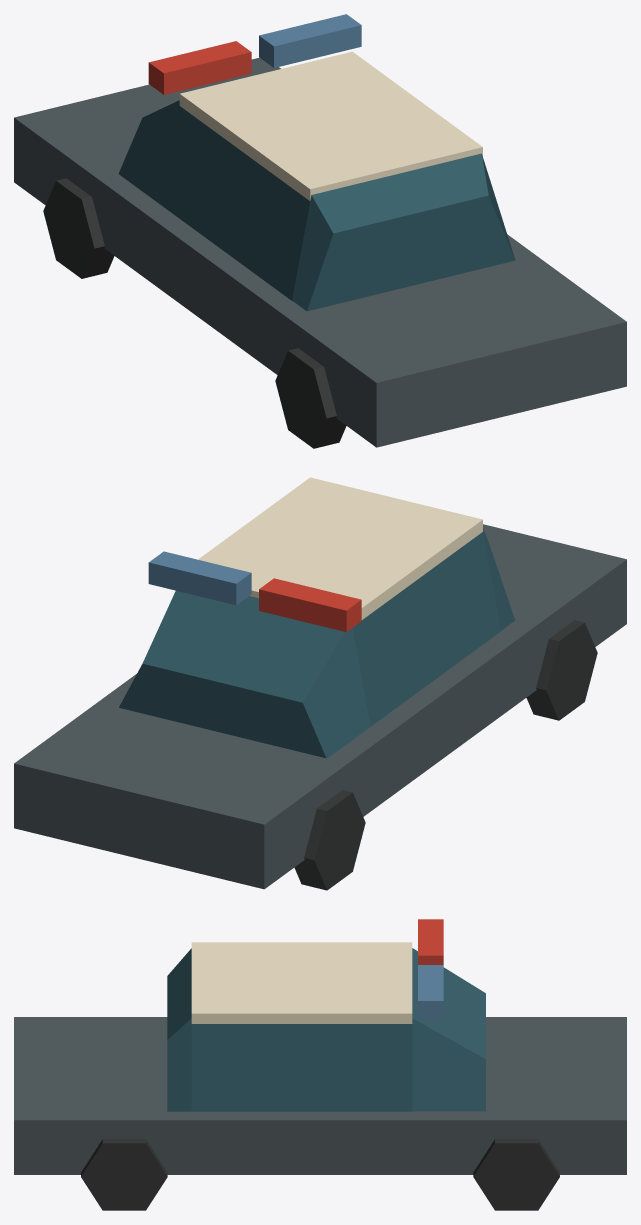
Rendered from police_far.glb.
3 views of the same model, one above another, from view 1: azimuth 30°, elevation 25°; view 2: azimuth 150°, elevation 25°; view 3: azimuth 270°, elevation 25° (orthographic). The views are drawn at different scales.
Visible parts, largest first — view 1: PoliceModel traffic_white, Supported cabin glazing, PoliceModel traffic_rubber, Emergency beacon, Emergency beacon.001; view 2: PoliceModel traffic_white, Supported cabin glazing, PoliceModel traffic_rubber, Emergency beacon.001, Emergency beacon; view 3: PoliceModel traffic_white, Supported cabin glazing, PoliceModel traffic_rubber, Emergency beacon.001, Emergency beacon.
Part boxes in pixels (<box>): PoliceModel traffic_white: <box>14,51,626,447</box>; Supported cabin glazing: <box>118,100,515,311</box>; PoliceModel traffic_rubber: <box>43,178,346,448</box>; Emergency beacon: <box>148,41,251,94</box>; Emergency beacon.001: <box>259,14,361,67</box>; PoliceModel traffic_white: <box>14,477,626,889</box>; Supported cabin glazing: <box>119,529,515,758</box>; PoliceModel traffic_rubber: <box>294,620,597,890</box>; Emergency beacon.001: <box>148,551,251,605</box>; Emergency beacon: <box>259,578,361,632</box>; PoliceModel traffic_white: <box>14,942,626,1174</box>; Supported cabin glazing: <box>167,948,485,1111</box>; PoliceModel traffic_rubber: <box>81,1139,559,1210</box>; Emergency beacon.001: <box>418,965,443,1019</box>; Emergency beacon: <box>418,919,443,964</box>.
Bounding box in the file's own units: 2.14 × 1.73 × 4.95.
